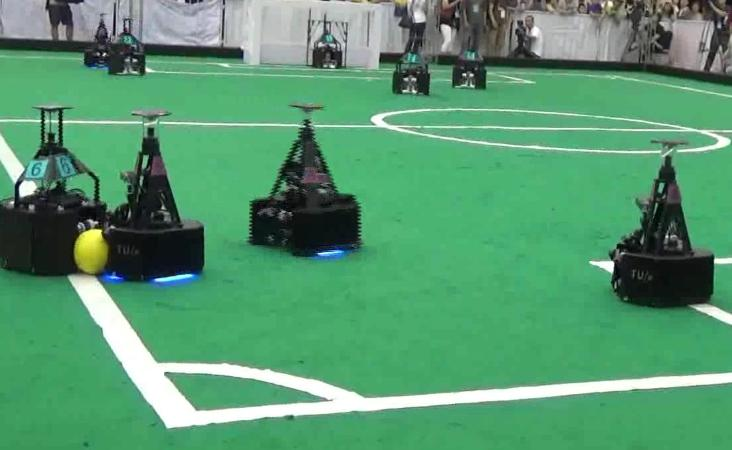robot: (606, 130, 722, 310), (243, 92, 366, 261), (100, 106, 210, 287), (1, 101, 112, 279)
